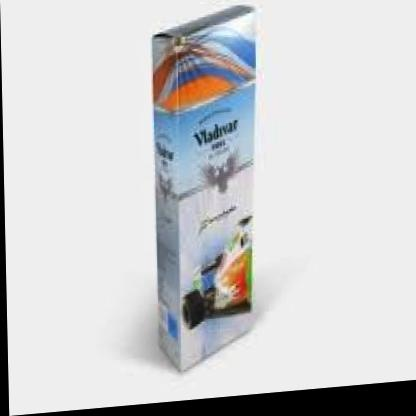trash: (152, 5, 255, 370)
